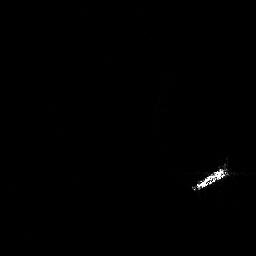ship: (192, 158, 234, 193)
